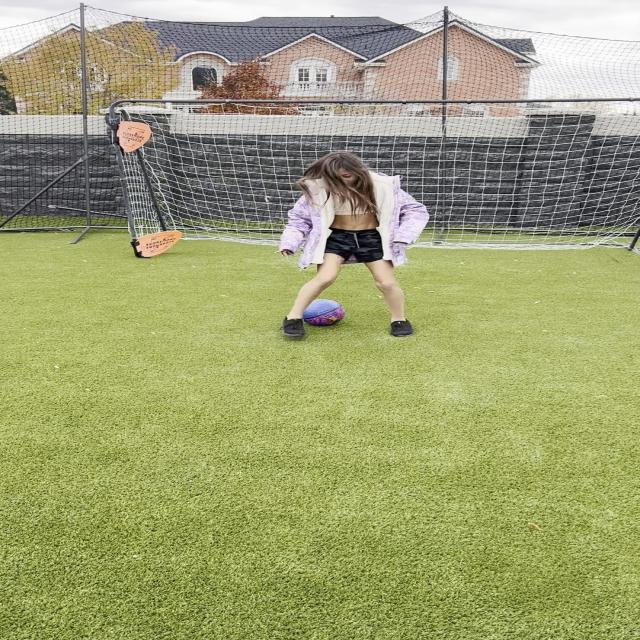Soccer Ball: (296, 299, 346, 326)
